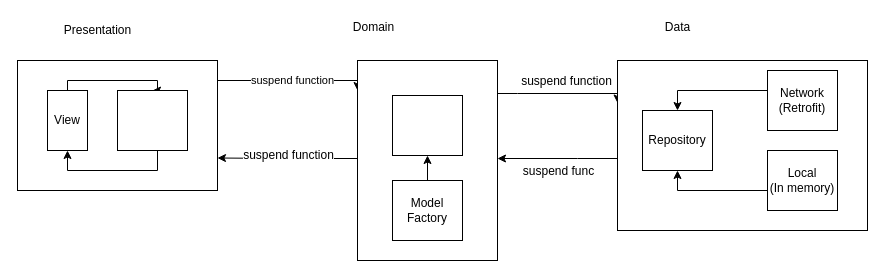
Image size: 885x278. Some labels were removed from this diagram. Here are the shapes that lost their labels. From the top down, the centre of each, then its label:
the point at 152,120: ViewModel
the point at 427,125: Usecase
